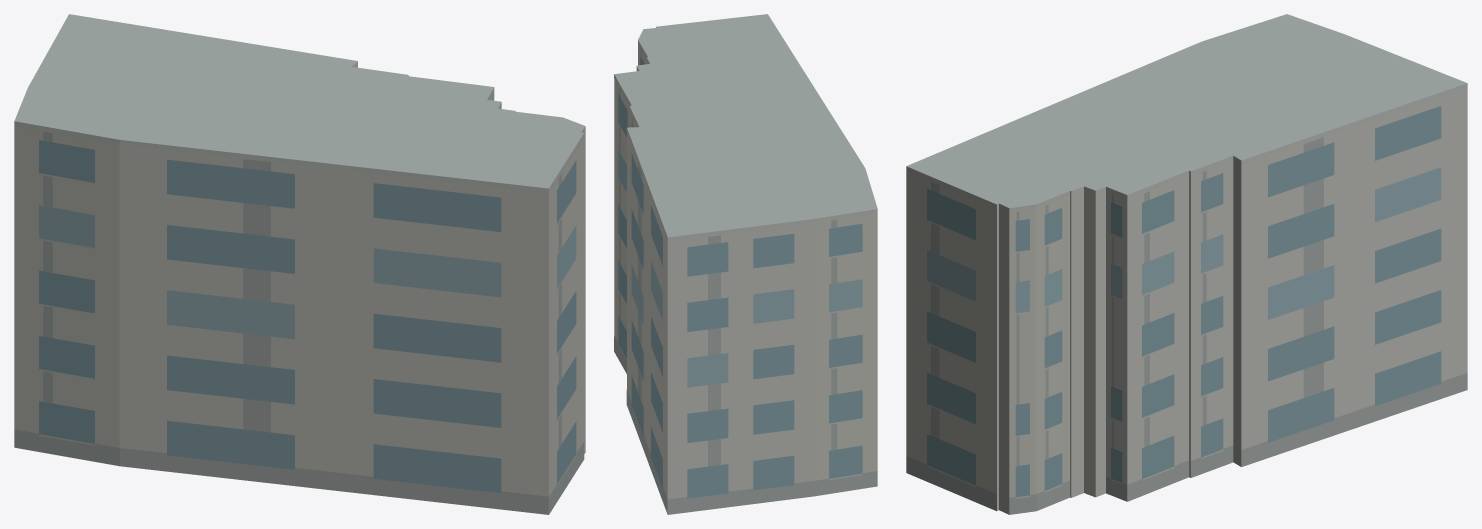
The model's file is survey-upis-32811010.glb.
The picture shows the model from 3 angles, left to right: view 1: azimuth 30°, elevation 25°; view 2: azimuth 150°, elevation 25°; view 3: azimuth 270°, elevation 25°; orthographic projection. The views are drawn at different scales.
Parts seen in each view (by area): view 1: survey-upis-32811010.tmp; view 2: survey-upis-32811010.tmp; view 3: survey-upis-32811010.tmp.
Boxes of the visible parts, box(x1,y1,x2,y2) form: survey-upis-32811010.tmp: box(14, 14, 585, 514); survey-upis-32811010.tmp: box(614, 14, 877, 514); survey-upis-32811010.tmp: box(906, 14, 1467, 514).
Size of the model in its own units: 20.38 by 15 by 24.89.
